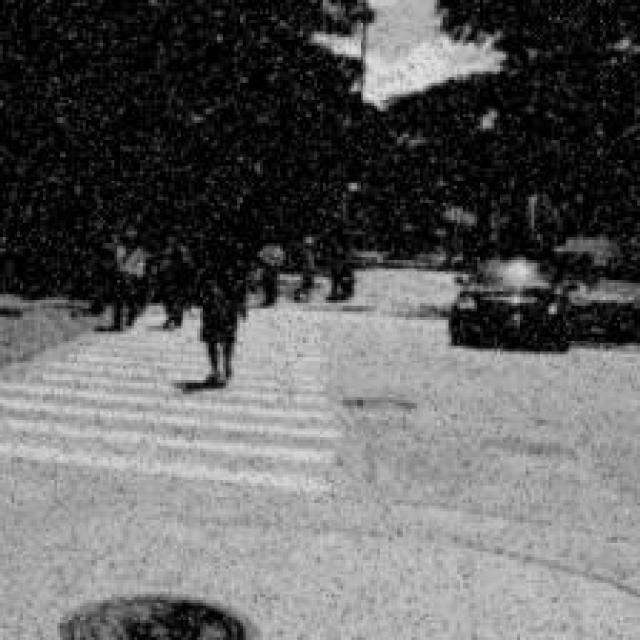walk-crossing: (11, 287, 346, 507)
